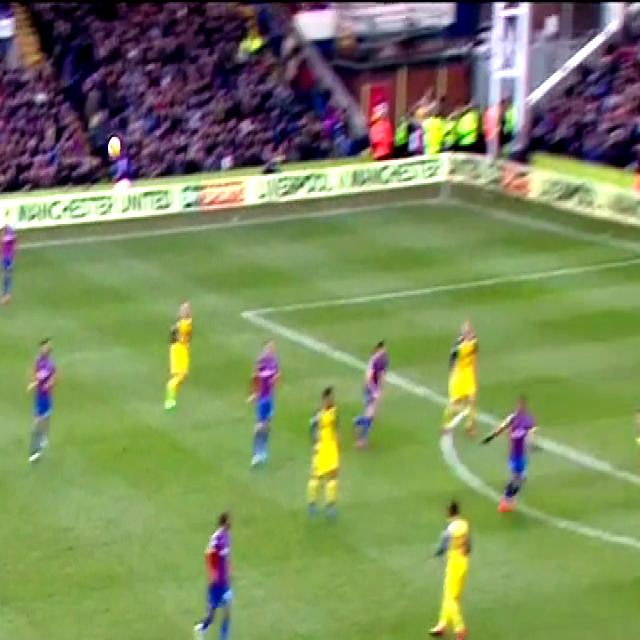soccer-player: (419, 494, 488, 640), (182, 503, 253, 640), (293, 382, 352, 525), (482, 390, 547, 519), (233, 334, 290, 475), (18, 335, 74, 475), (437, 316, 494, 449), (154, 294, 207, 418), (349, 338, 398, 454), (0, 210, 25, 308)
